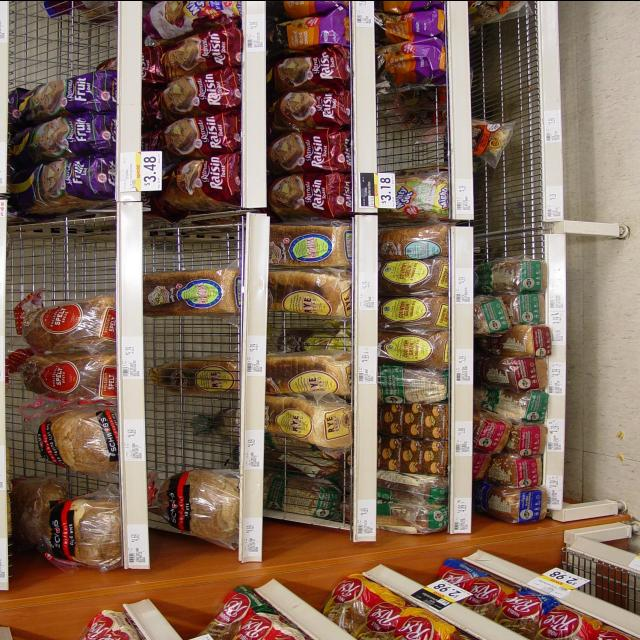empty_space: (161, 328, 231, 452), (18, 236, 106, 292), (482, 24, 538, 106), (481, 169, 538, 243), (18, 19, 96, 69), (384, 89, 432, 159), (158, 229, 226, 263)
